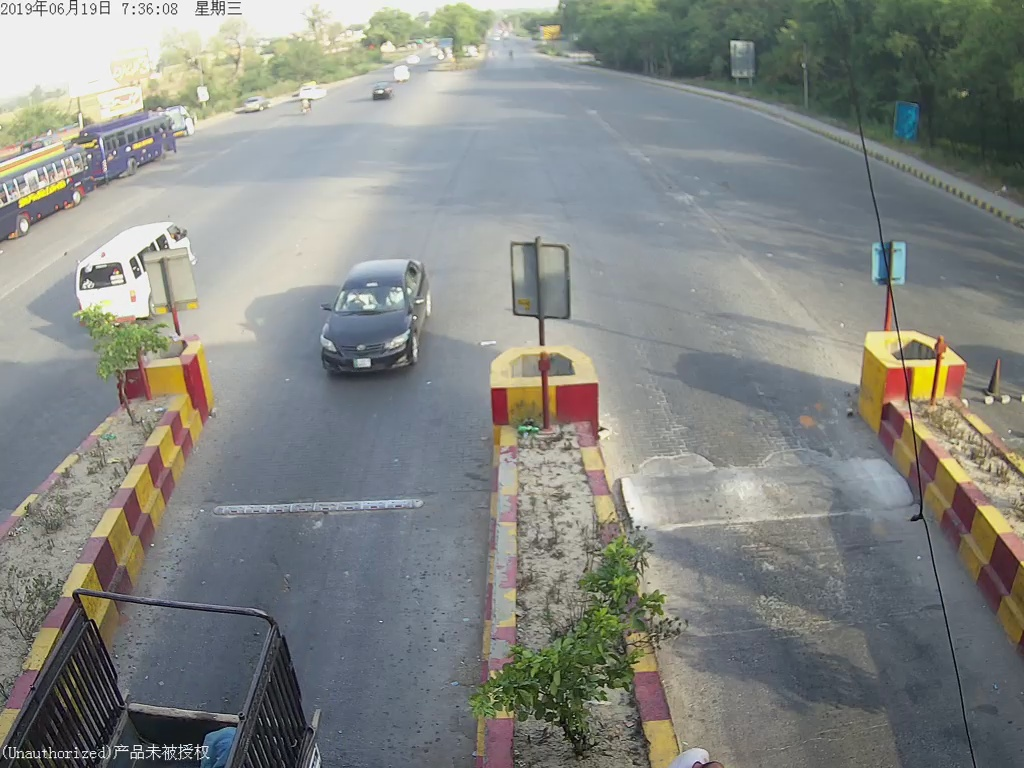Cat-1: (314, 261, 439, 371)
